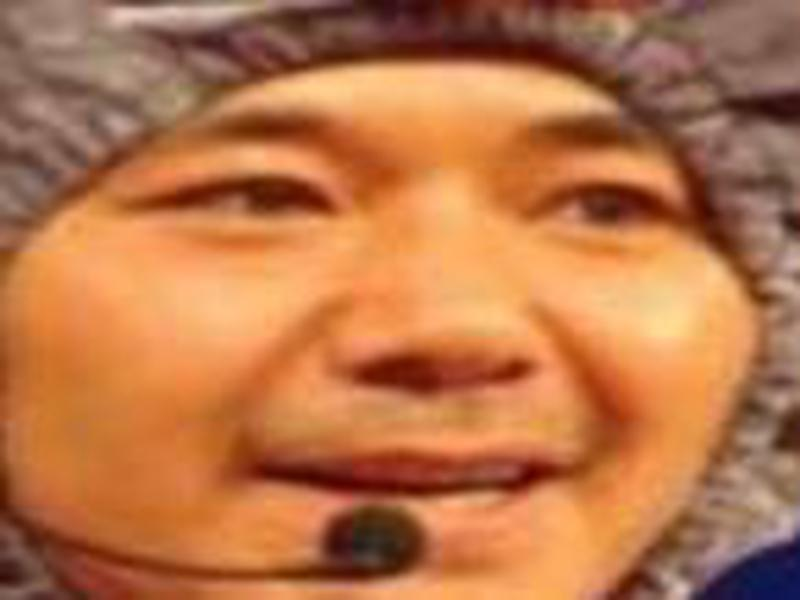without_mask: (1, 59, 753, 600)
